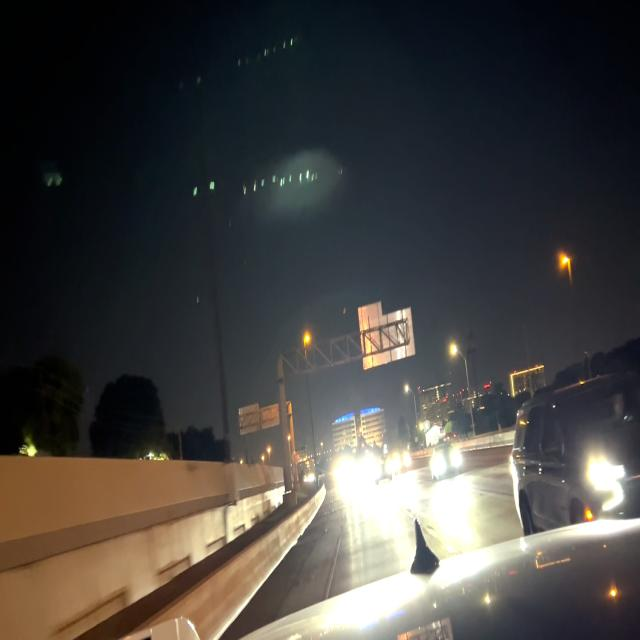back-of-sign: (354, 301, 417, 372)
